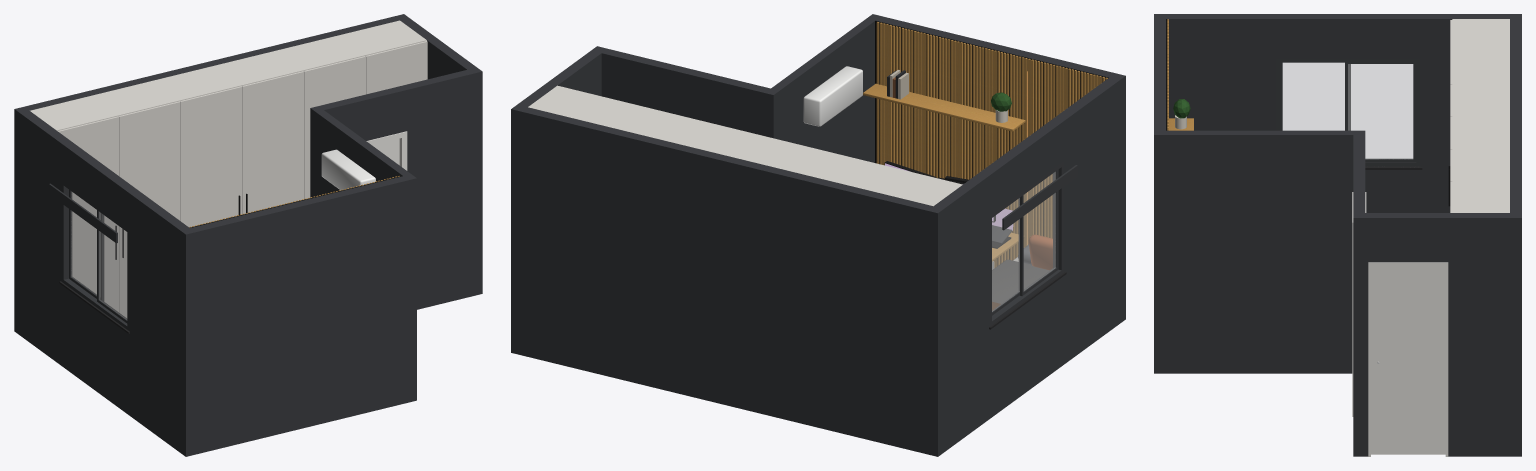
The model's file is quarto.glb.
3 renders of one model, left to right at view 1: azimuth 30°, elevation 25°; view 2: azimuth 150°, elevation 25°; view 3: azimuth 270°, elevation 25°, orthographic. The views are drawn at different scales.
Parts seen in each view (by area): view 1: Parede_D, Banheiro_LE, Parede_E_trecho_EE, Parede_E_trecho_ED, Armario_existente_corpo, Armario_existente_porta_4, Armario_existente_porta_3, Armario_existente_porta_2, Parede_E_peitoril, Parede_C, Armario_existente_porta_1, Parede_E_verga (+13 smaller); view 2: Parede_Fundo_Armario, Ripado_Ripas_Freijo, Parede_E_trecho_ED, Parede_E_trecho_EE, Armario_existente_corpo, Parede_C, Ripado_Fundo_MDF_Preto, Parede_E_peitoril, Parede_E_verga, Banheiro_LE, Parede_D, Banheiro_verga_porta (+11 smaller); view 3: Parede_C, Parede_Leste_2, Porta_Entrada_folha_0_75, Parede_E_trecho_EE, Armario_existente_corpo, Parede_E_verga, Parede_E_trecho_ED, Janela_Folha_2_vidro, Parede_Fundo_Armario, Janela_Folha_1_vidro, Parede_Leste_verga, Parede_Leste_1 (+11 smaller).
Part boxes in pixels (<box>): Parede_D: <box>180,174,416,456</box>; Banheiro_LE: <box>402,70,472,309</box>; Parede_E_trecho_EE: <box>129,190,189,452</box>; Parede_E_trecho_ED: <box>14,107,70,365</box>; Armario_existente_corpo: <box>30,20,426,130</box>; Armario_existente_porta_4: <box>242,71,304,213</box>; Armario_existente_porta_3: <box>180,86,242,227</box>; Armario_existente_porta_2: <box>118,101,180,317</box>; Parede_E_peitoril: <box>61,285,129,414</box>; Parede_C: <box>310,108,416,402</box>; Armario_existente_porta_1: <box>57,116,118,311</box>; Parede_E_verga: <box>61,141,138,229</box>; Parede_Fundo_Armario: <box>511,104,943,456</box>; Ripado_Ripas_Freijo: <box>876,22,1107,267</box>; Parede_E_trecho_ED: <box>927,172,989,456</box>; Parede_E_trecho_EE: <box>1053,77,1119,364</box>; Armario_existente_corpo: <box>528,85,962,206</box>; Parede_C: <box>771,14,880,162</box>; Ripado_Fundo_MDF_Preto: <box>875,20,1108,265</box>; Parede_E_peitoril: <box>990,276,1063,418</box>; Parede_E_verga: <box>980,118,1063,215</box>; Banheiro_LE: <box>601,49,679,113</box>; Parede_D: <box>868,15,1125,323</box>; Banheiro_verga_porta: <box>674,66,743,129</box>; Parede_C: <box>1154,130,1365,373</box>; Parede_Leste_2: <box>1448,213,1520,456</box>; Porta_Entrada_folha_0_75: <box>1371,268,1445,454</box>; Parede_E_trecho_EE: <box>1166,14,1275,130</box>; Armario_existente_corpo: <box>1452,19,1509,212</box>; Parede_E_verga: <box>1275,14,1420,58</box>; Parede_E_trecho_ED: <box>1420,14,1521,212</box>; Janela_Folha_2_vidro: <box>1348,64,1412,158</box>; Parede_Fundo_Armario: <box>1510,14,1521,456</box>; Janela_Folha_1_vidro: <box>1283,63,1344,130</box>; Parede_Leste_verga: <box>1368,213,1448,262</box>; Parede_Leste_1: <box>1353,213,1368,456</box>.
Bounding box in the file's own units: 5.01 × 2.66 × 3.69.
Materials: 32 (5 with a texture image).
